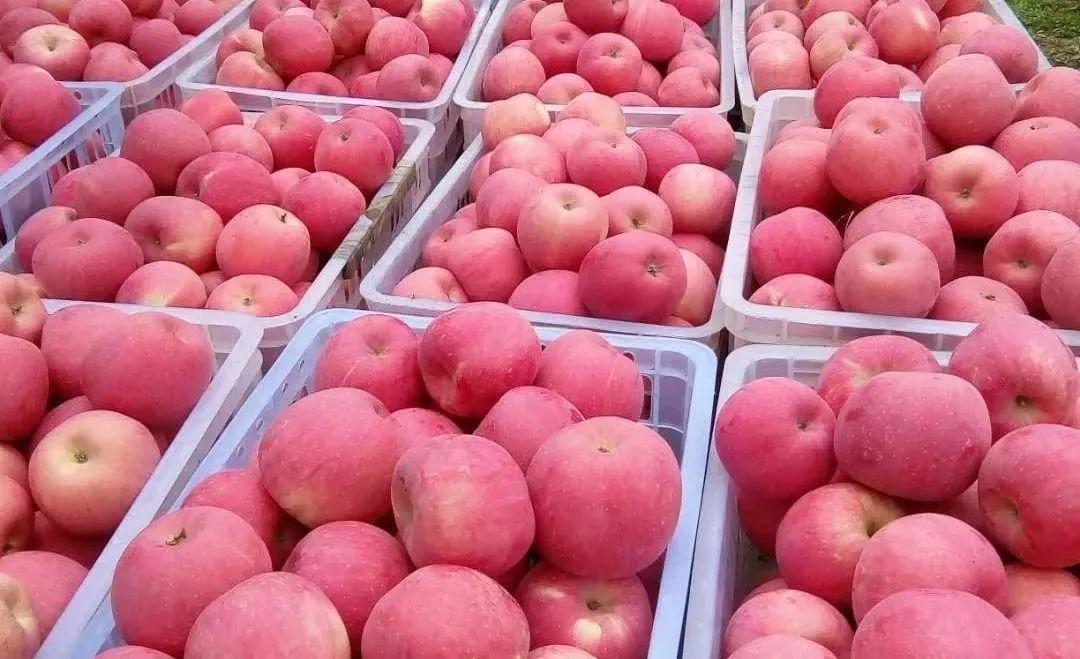apple: (522, 417, 683, 579), (110, 505, 271, 649), (832, 372, 991, 504), (391, 434, 536, 578), (257, 387, 404, 525), (851, 512, 1007, 623), (27, 407, 161, 535), (79, 309, 215, 431), (713, 374, 840, 502), (363, 565, 531, 659), (181, 570, 355, 659), (281, 522, 411, 640), (776, 483, 899, 605), (975, 424, 1079, 568), (418, 301, 544, 412), (952, 321, 1079, 429), (515, 560, 652, 659), (183, 469, 303, 571), (847, 592, 1029, 659), (311, 314, 424, 412), (982, 208, 1078, 315), (834, 224, 943, 316), (538, 328, 646, 420), (816, 333, 942, 410), (580, 232, 687, 322), (826, 106, 924, 203), (33, 218, 145, 300), (920, 54, 1017, 146), (923, 145, 1019, 237), (517, 183, 608, 271), (215, 204, 310, 285), (121, 108, 210, 191), (748, 204, 840, 284), (124, 198, 223, 271), (176, 152, 280, 221), (283, 171, 365, 252), (446, 227, 526, 302), (313, 117, 393, 191), (812, 58, 899, 126), (1, 71, 80, 144), (658, 164, 736, 231), (566, 127, 646, 192), (931, 274, 1032, 323), (475, 168, 547, 234), (255, 107, 326, 171), (959, 26, 1039, 82), (115, 261, 205, 310), (870, 3, 941, 65), (992, 118, 1080, 168), (13, 25, 90, 82), (576, 32, 643, 96), (632, 128, 698, 192), (262, 17, 334, 75), (488, 134, 566, 186), (602, 185, 673, 242), (1016, 64, 1080, 127), (206, 273, 299, 315), (481, 92, 550, 148), (671, 112, 735, 171), (622, 1, 683, 62), (809, 26, 879, 78), (408, 1, 475, 55), (1, 269, 48, 345), (311, 1, 373, 55), (375, 55, 442, 104), (366, 16, 430, 66), (482, 47, 544, 98), (532, 21, 588, 77), (216, 50, 283, 94), (657, 65, 721, 110), (68, 1, 132, 45), (390, 267, 468, 303), (563, 1, 629, 32), (288, 71, 350, 98), (246, 1, 307, 27)
